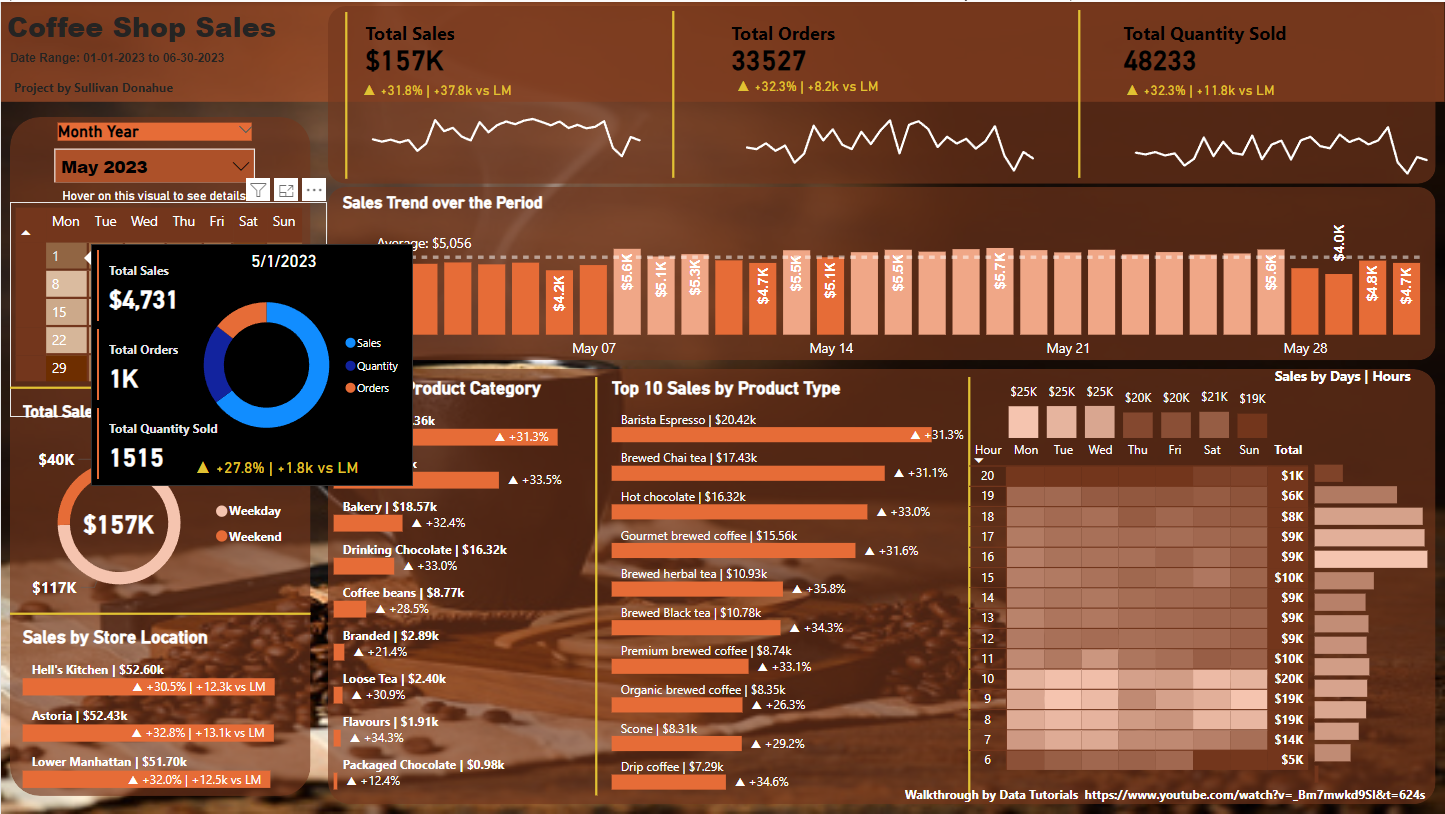

The page's visual inventory and layout, read from the dashboard file:
{"tool":"powerbi","page":{"name":"Sales Dashboard","canvas":[1280,720],"ordinal":0},"visuals":[{"type":"shape","box":[0,0,1280,88.5],"z":0},{"type":"cardVisual","title":"Total Sales","fields":{"Data":["Transactions.Total Orders"]},"box":[630.4,0,222,72.4],"z":0,"group":"g2"},{"type":"cardVisual","title":"Total Sales","fields":{"Data":["Transactions.Total Sales"]},"box":[306,0.2,178,72.9],"z":0,"group":"g1"},{"type":"cardVisual","title":"Total Sales","fields":{"Data":["Transactions.Total Quantity Sold"]},"box":[978.4,0.3,222.7,78.8],"z":0,"group":"g3"},{"type":"textbox","box":[0,0,263.5,70],"z":1000},{"type":"lineChart","fields":{"Category":["Date Table.Date.Variation.Date Hierarchy.Year","Date Table.Date.Variation.Date Hierarchy.Quarter","Date Table.Date.Variation.Date Hierarchy.Month","Date Table.Date.Variation.Date Hierarchy.Day"],"Y":["Transactions.Total Orders"]},"box":[646.6,66.9,283.7,89.8],"z":1000,"group":"g2"},{"type":"lineChart","fields":{"Category":["Date Table.Date.Variation.Date Hierarchy.Year","Date Table.Date.Variation.Date Hierarchy.Quarter","Date Table.Date.Variation.Date Hierarchy.Month","Date Table.Date.Variation.Date Hierarchy.Day"],"Y":["Transactions.Total Quantity Sold"]},"box":[991.6,70,287.9,93.4],"z":1000,"group":"g3"},{"type":"lineChart","fields":{"Category":["Date Table.Date.Variation.Date Hierarchy.Year","Date Table.Date.Variation.Date Hierarchy.Quarter","Date Table.Date.Variation.Date Hierarchy.Month","Date Table.Date.Variation.Date Hierarchy.Day"],"Y":["Sum(Transactions.Sales)"]},"box":[314.8,70.2,266.5,91.4],"z":1000,"group":"g1"},{"type":"textbox","box":[2.9,35,260.7,41.8],"z":2000},{"type":"shape","box":[7.8,102.1,266.5,602.1],"z":3000},{"type":"shape","box":[289.7,325,982.2,385.8],"z":4000},{"type":"shape","box":[289.7,164.1,982.2,153.7],"z":5000},{"type":"shape","box":[289.8,3.9,982.4,157.6],"z":6000},{"type":"slicer","fields":{"Values":["Date Table.Month Year"]},"box":[37,102.1,198.4,58.4],"z":7000},{"type":"group","id":"g1","title":"Group 1","box":[306,0.2,275.3,161.5],"z":8000},{"type":"group","id":"g2","title":"Group 1","box":[630.4,0,300.2,156.3],"z":9000},{"type":"group","id":"g3","title":"Group 1","box":[978.4,0.3,301.1,163.1],"z":10000},{"type":"pivotTable","fields":{"Rows":["Date Table.Week Number"],"Columns":["Date Table.Day Name"],"Values":["Min(Date Table.Day Number)"]},"box":[7.8,177,281.1,190.6],"z":11000},{"type":"card","fields":{"Values":["Transactions.Foot Note"]},"box":[30.2,155.6,211.1,35],"z":12000},{"type":"donutChart","fields":{"Y":["Transactions.Total Sales"],"Category":["Date Table.Weekday / Weekend"]},"box":[14.6,355,249,198.4],"z":13000},{"type":"card","fields":{"Values":["Transactions.Total Sales"]},"box":[0,411.4,208.1,102.1],"z":14000},{"type":"shape","box":[7.8,324.9,266.5,35],"z":15000},{"type":"shape","box":[7.8,525.2,266.5,35],"z":16000},{"type":"clusteredBarChart","title":"Sales by Store Location","fields":{"Category":["Transactions.store_location"],"Y":["Transactions.Placeholder","Transactions.Total Sales"]},"box":[14.6,553.4,259.7,150.8],"z":17000},{"type":"columnChart","title":"Sales Trend over the Period","fields":{"Category":["Transactions.transaction_date"],"Y":["Transactions.Total Sales"]},"box":[297.5,169.4,974.4,155.6],"z":18000},{"type":"clusteredBarChart","title":"Sales by Product Category","fields":{"Y":["Transactions.Placeholder","Transactions.Total Sales"],"Category":["Transactions.product_category"]},"box":[289.8,332.8,238.2,371.5],"z":19000},{"type":"shape","box":[394.8,332.8,266.5,371.5],"z":20000},{"type":"shape","box":[725.7,332.8,266.5,371.5],"z":21000},{"type":"shape","box":[463,7.8,266.5,147.8],"z":22000},{"type":"shape","box":[822.9,6.8,266.5,148.8],"z":23000},{"type":"shape","box":[173.1,8.8,266.5,147.8],"z":24000},{"type":"clusteredBarChart","title":"Top 10 Sales by Product Type","fields":{"Y":["Transactions.Placeholder","Transactions.Total Sales"],"Category":["Transactions.product_type"]},"box":[536.6,332.8,322.3,371.5],"z":25000},{"type":"pivotTable","fields":{"Rows":["Transactions.Hour"],"Columns":["Date Table.Day Name"],"Values":["Transactions.Total Sales"]},"box":[852.8,383.9,321.1,326.3],"z":26000},{"type":"barChart","fields":{"Category":["Transactions.Hour"],"Y":["Transactions.Total Sales"]},"box":[1160.1,397.6,111.8,300.2],"z":27000},{"type":"columnChart","fields":{"Y":["Transactions.Total Sales"],"Category":["Date Table.Day Name"]},"box":[888.7,327.6,240,65.4],"z":28000},{"type":"textbox","box":[1124.1,317.8,155.6,30.1],"z":29000},{"type":"textbox","box":[5.9,61.5,300.2,31.4],"z":30000},{"type":"textbox","box":[796.3,688.1,484.1,31],"z":30001}]}

Visuals, with their boxes in screenshot pixels (x1, y1, x2, y2), scaled from the page's 1280x720 canvas onto the 1445x814 screenshot:
shape: crop(0, 0, 1444, 100)
"Total Sales" cardVisual: crop(712, 0, 962, 82)
"Total Sales" cardVisual: crop(345, 0, 546, 83)
"Total Sales" cardVisual: crop(1105, 0, 1356, 89)
textbox: crop(0, 0, 297, 79)
lineChart - Date Table.Date.Variation.Date Hierarchy.Year x Date Table.Date.Variation.Date Hierarchy.Quarter: crop(730, 76, 1050, 177)
lineChart - Date Table.Date.Variation.Date Hierarchy.Year x Date Table.Date.Variation.Date Hierarchy.Quarter: crop(1119, 79, 1444, 185)
lineChart - Date Table.Date.Variation.Date Hierarchy.Year x Date Table.Date.Variation.Date Hierarchy.Quarter: crop(355, 79, 656, 183)
textbox: crop(3, 40, 298, 87)
shape: crop(9, 115, 310, 796)
shape: crop(327, 367, 1436, 804)
shape: crop(327, 186, 1436, 359)
shape: crop(327, 4, 1436, 183)
slicer - Date Table.Month Year: crop(42, 115, 266, 181)
"Group 1" group: crop(345, 0, 656, 183)
"Group 1" group: crop(712, 0, 1051, 177)
"Group 1" group: crop(1105, 0, 1444, 185)
pivotTable - Date Table.Week Number x Date Table.Day Name: crop(9, 200, 326, 416)
card - Transactions.Foot Note: crop(34, 176, 272, 215)
donutChart - Transactions.Total Sales x Date Table.Weekday / Weekend: crop(16, 401, 298, 626)
card - Transactions.Total Sales: crop(0, 465, 235, 581)
shape: crop(9, 367, 310, 407)
shape: crop(9, 594, 310, 633)
"Sales by Store Location" clusteredBarChart: crop(16, 626, 310, 796)
"Sales Trend over the Period" columnChart: crop(336, 192, 1436, 367)
"Sales by Product Category" clusteredBarChart: crop(327, 376, 596, 796)
shape: crop(446, 376, 747, 796)
shape: crop(819, 376, 1120, 796)
shape: crop(523, 9, 824, 176)
shape: crop(929, 8, 1230, 176)
shape: crop(195, 10, 496, 177)
"Top 10 Sales by Product Type" clusteredBarChart: crop(606, 376, 970, 796)
pivotTable - Transactions.Hour x Date Table.Day Name: crop(963, 434, 1325, 803)
barChart - Transactions.Hour x Transactions.Total Sales: crop(1310, 450, 1436, 789)
columnChart - Transactions.Total Sales x Date Table.Day Name: crop(1003, 370, 1274, 444)
textbox: crop(1269, 359, 1444, 393)
textbox: crop(7, 70, 346, 105)
textbox: crop(899, 778, 1444, 813)
